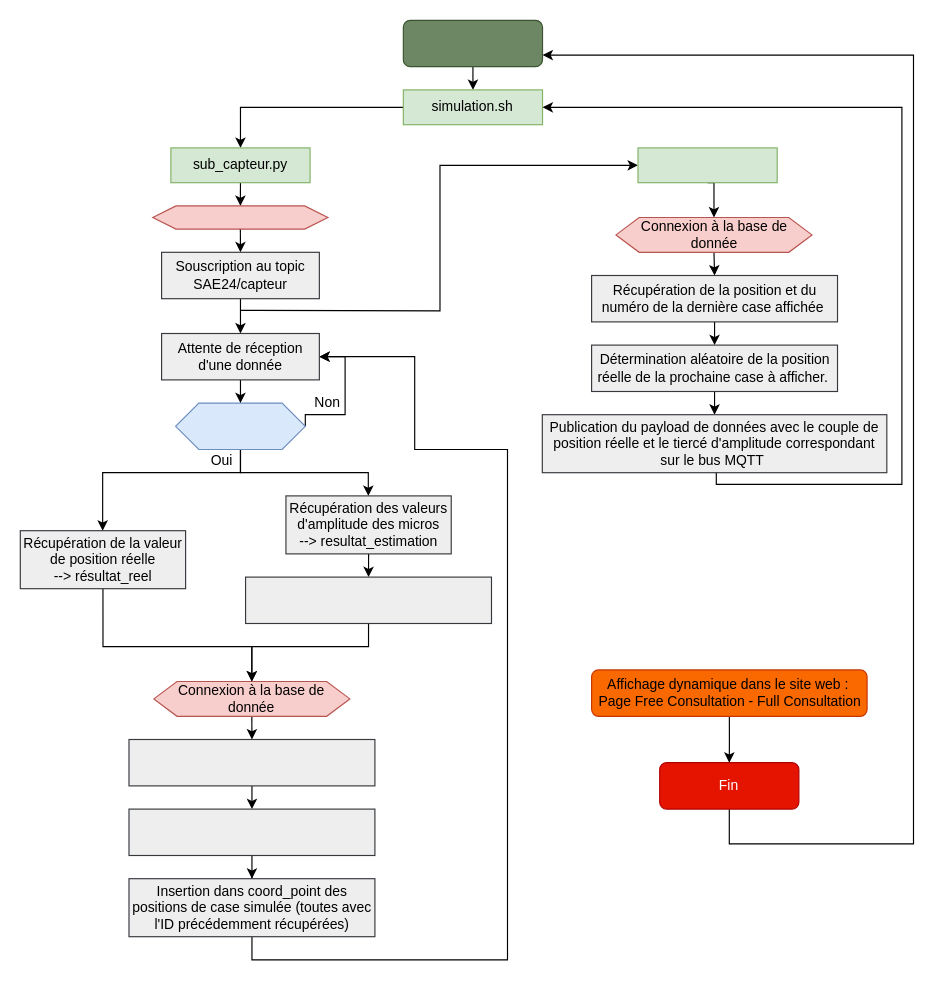
Image size: 943x989. Some labels were removed from this diagram. The shapes that lost their labels are listed below. From the top down, each one's box as (x1, y1, x2, y2) in pixels, then its label:
(402, 19, 543, 67): Début
(637, 147, 777, 183): pub_capteur.py
(152, 205, 328, 229): Connexion au broker
(174, 402, 305, 449): Réception du payload
(244, 576, 491, 624): Calcul des positions x et y de la ou des cases'
(128, 738, 375, 786): Insertion de la position de la case réelle dans la table coord_points_reel
(128, 808, 375, 855): Récupération de l'ID utilisé en dernier dans coord_points_reel
